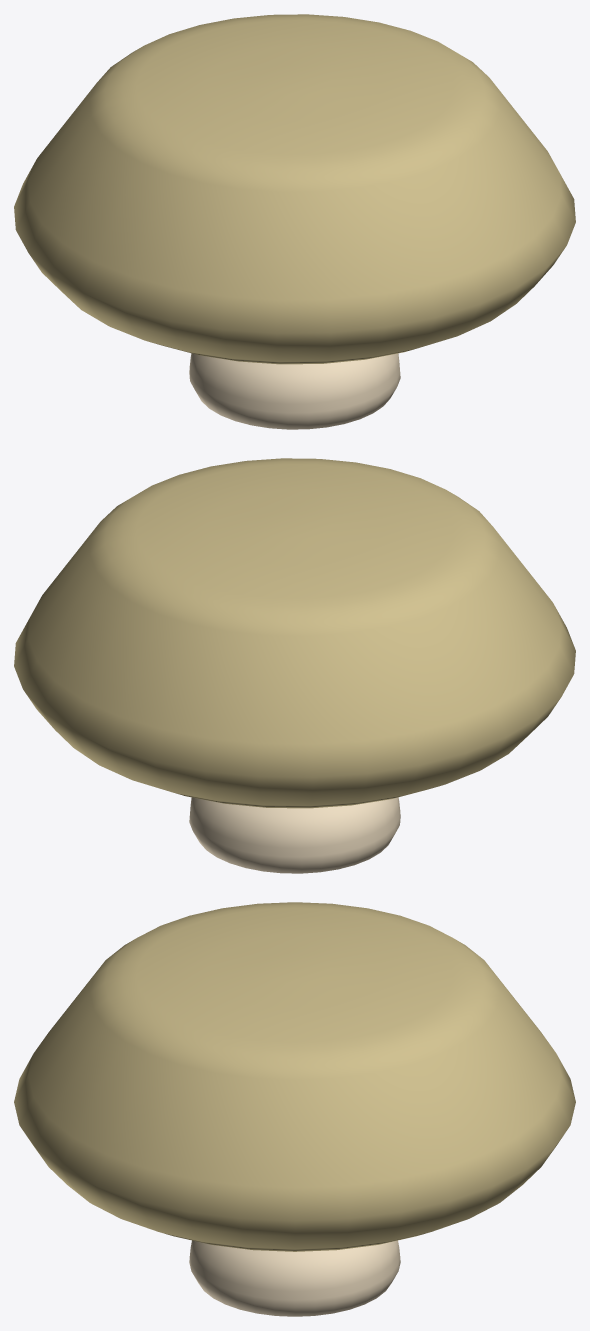
The model's file is Mushroom.fbx.
The picture shows the model from 3 angles, top to bottom: view 1: azimuth 30°, elevation 25°; view 2: azimuth 150°, elevation 25°; view 3: azimuth 270°, elevation 25°; orthographic projection.
Parts seen in each view (by area): view 1: Mushroom; view 2: Mushroom; view 3: Mushroom.
Boxes of the visible parts, x1,y1,x2,y2 form: Mushroom: (14, 14, 575, 429); Mushroom: (14, 458, 575, 873); Mushroom: (14, 902, 575, 1316).
Size of the model in its own units: 269 by 169 by 269.
